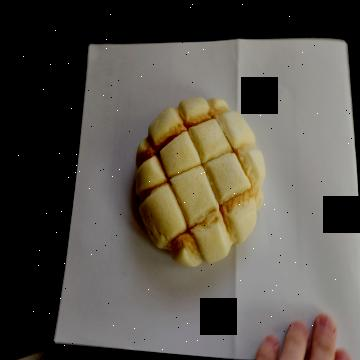melon_bread: (134, 93, 268, 272)
